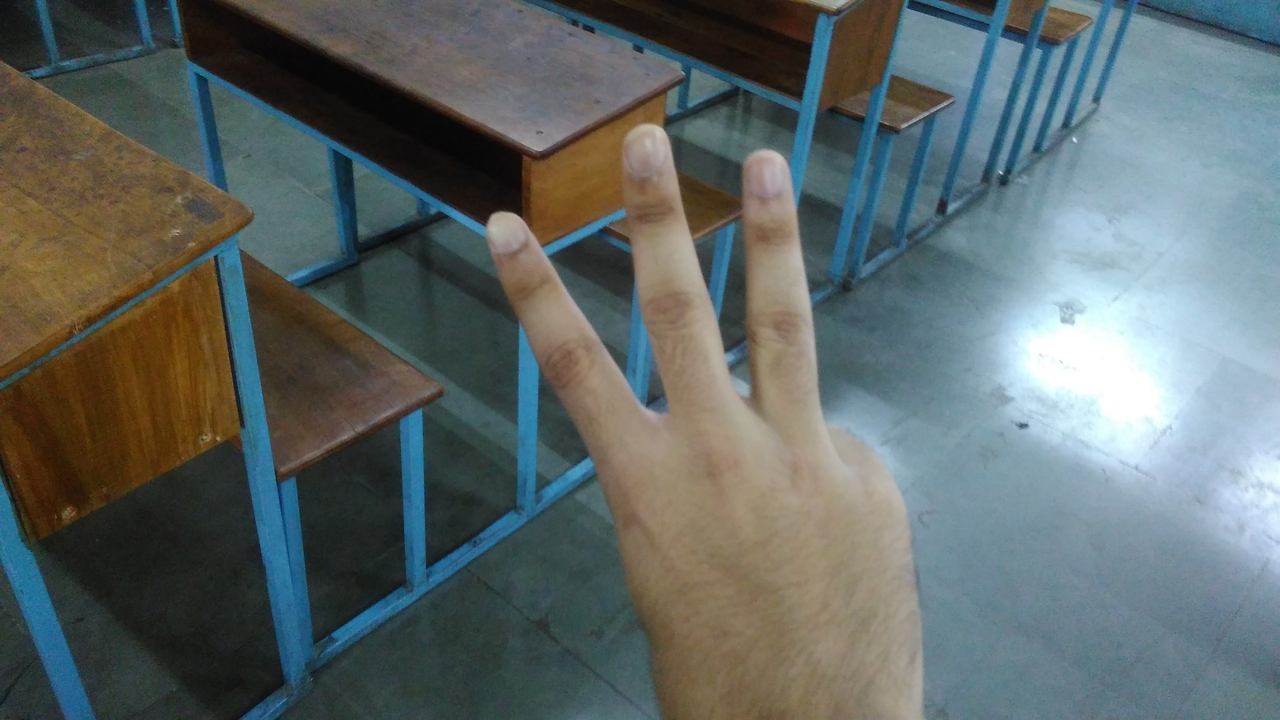fingertip: (612, 120, 682, 180), (736, 142, 800, 206), (472, 206, 540, 266)
